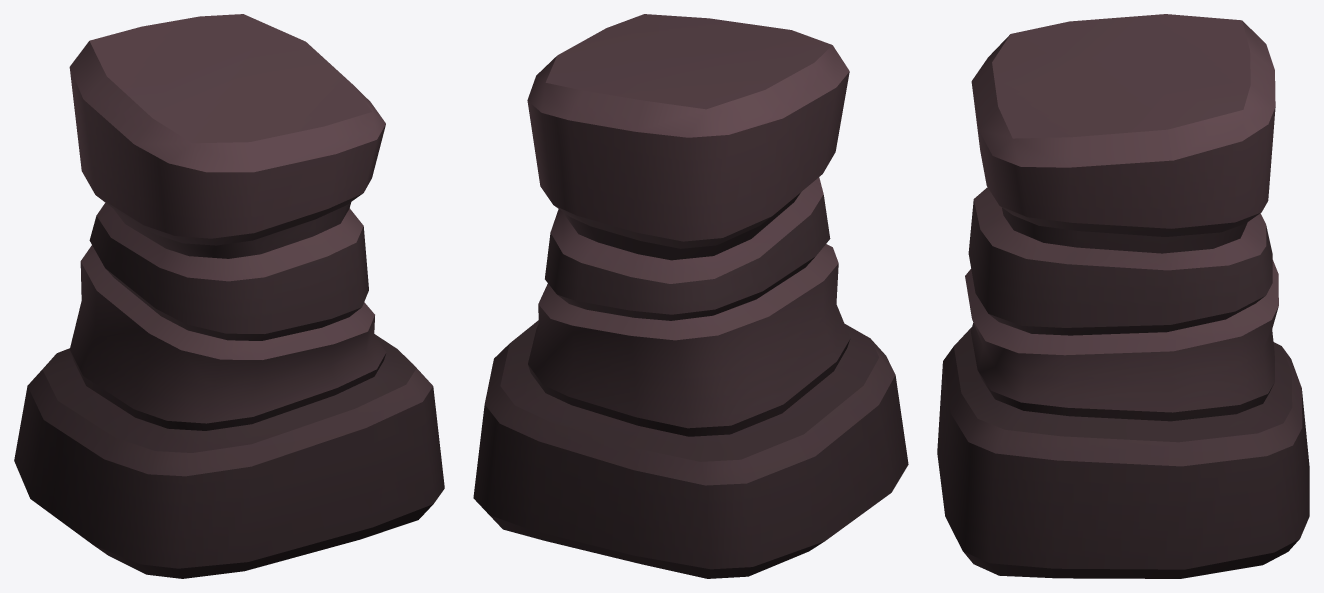
The model's file is rock_big_B_dark_2.glb.
3 views of the same model, side by side, from view 1: azimuth 30°, elevation 25°; view 2: azimuth 150°, elevation 25°; view 3: azimuth 270°, elevation 25° (orthographic). The views are drawn at different scales.
Parts seen in each view (by area): view 1: rock_big_B_dark_2; view 2: rock_big_B_dark_2; view 3: rock_big_B_dark_2.
Part boxes in pixels (bbox=[...]): rock_big_B_dark_2: bbox=[14, 14, 444, 578]; rock_big_B_dark_2: bbox=[473, 14, 908, 578]; rock_big_B_dark_2: bbox=[937, 14, 1309, 578].
Size of the model in its own units: 3.61 by 4.5 by 3.41.
1 material, 1 textured.
